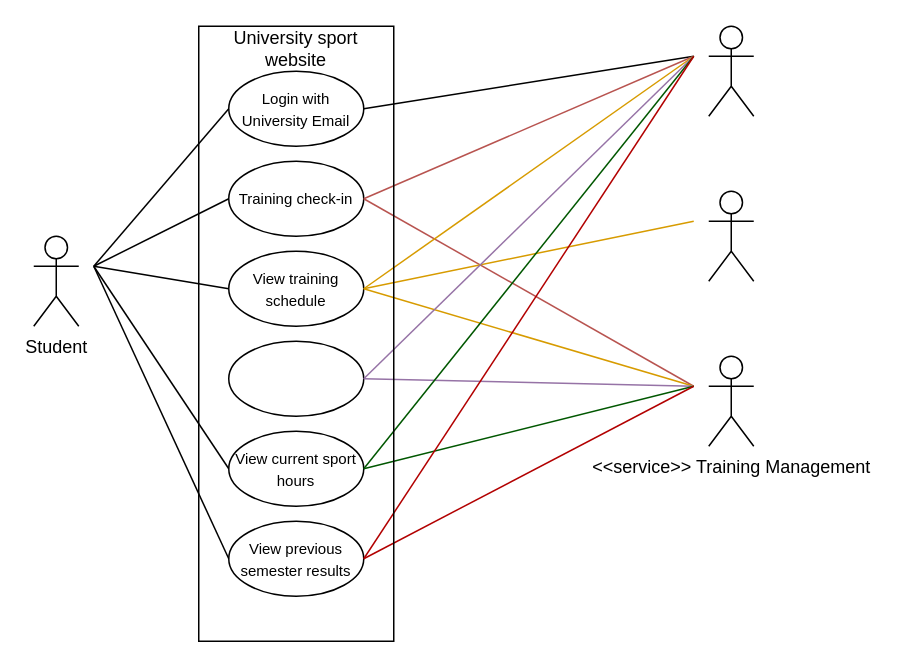
The diagram is 914 pixels wide and 668 high, and some of its shapes have lost their labels. Here are the shapes that lost their labels. From the top down, the centre of each, then its label:
At [730,70]: "<<service>> Authentication".
At [730,235]: "<<external service>> SwipeCalendar.io".
At [295,378]: "View training info".
